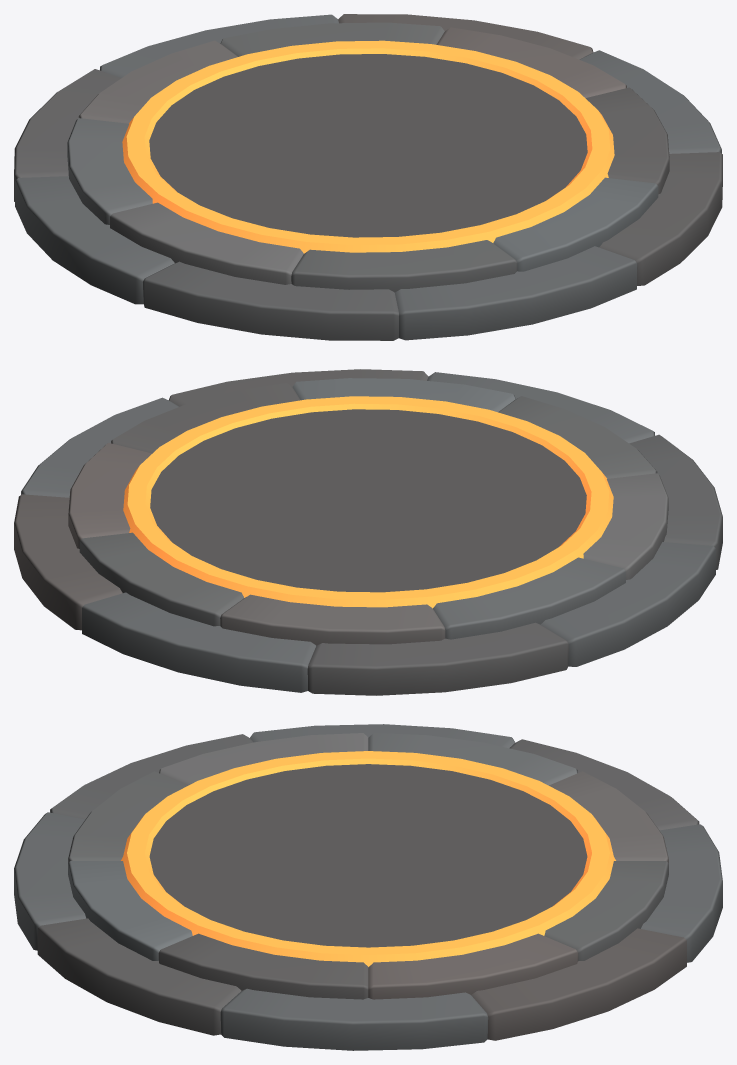
The picture shows the model from 3 angles, top to bottom: view 1: azimuth 30°, elevation 25°; view 2: azimuth 150°, elevation 25°; view 3: azimuth 270°, elevation 25°; orthographic projection.
Visible parts, largest first — view 1: circle_001; view 2: circle_001; view 3: circle_001.
Part boxes in pixels (bbox=[...]): circle_001: bbox=[14, 14, 722, 340]; circle_001: bbox=[14, 369, 722, 695]; circle_001: bbox=[14, 724, 722, 1050].
Size of the model in its own units: 9.13 by 0.6814 by 9.13.
2 materials, 2 textured.
